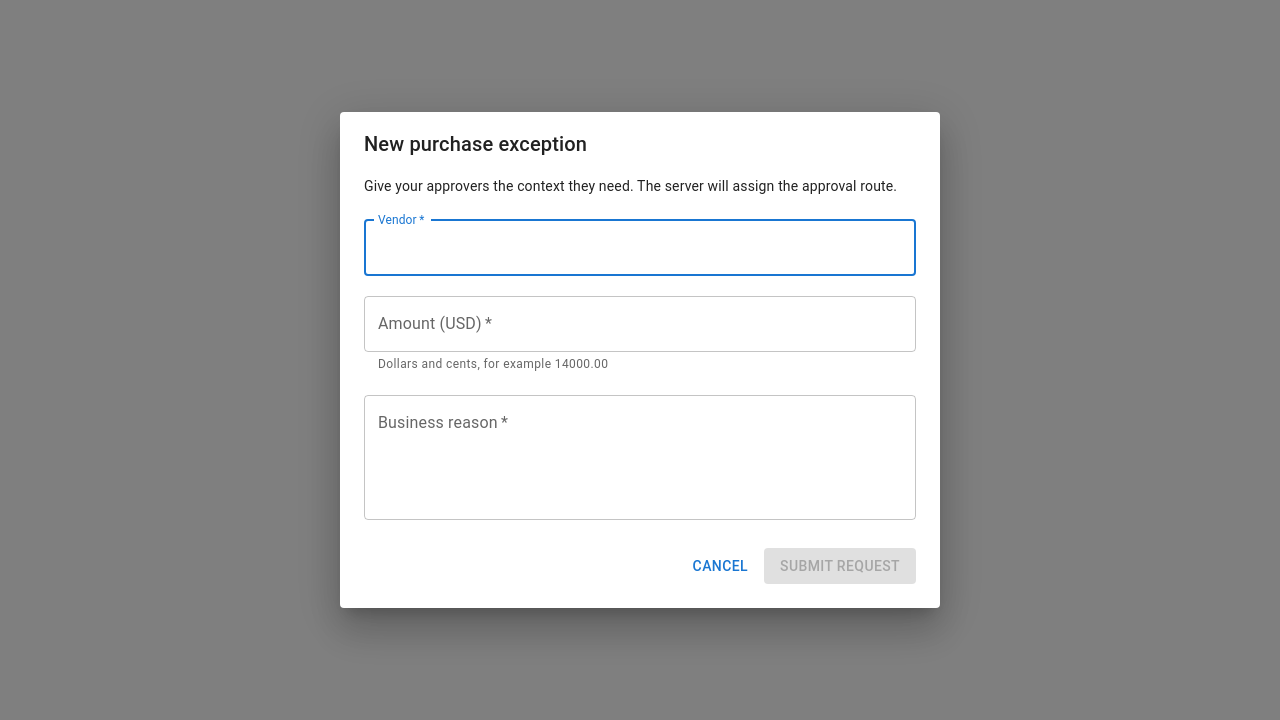
Test: purchase form › converts dollars to cents and retains fields when the API rejects submission
In the field labelled "Vendor": (640, 248) [364, 220, 916, 276], type "Demo Vendor"
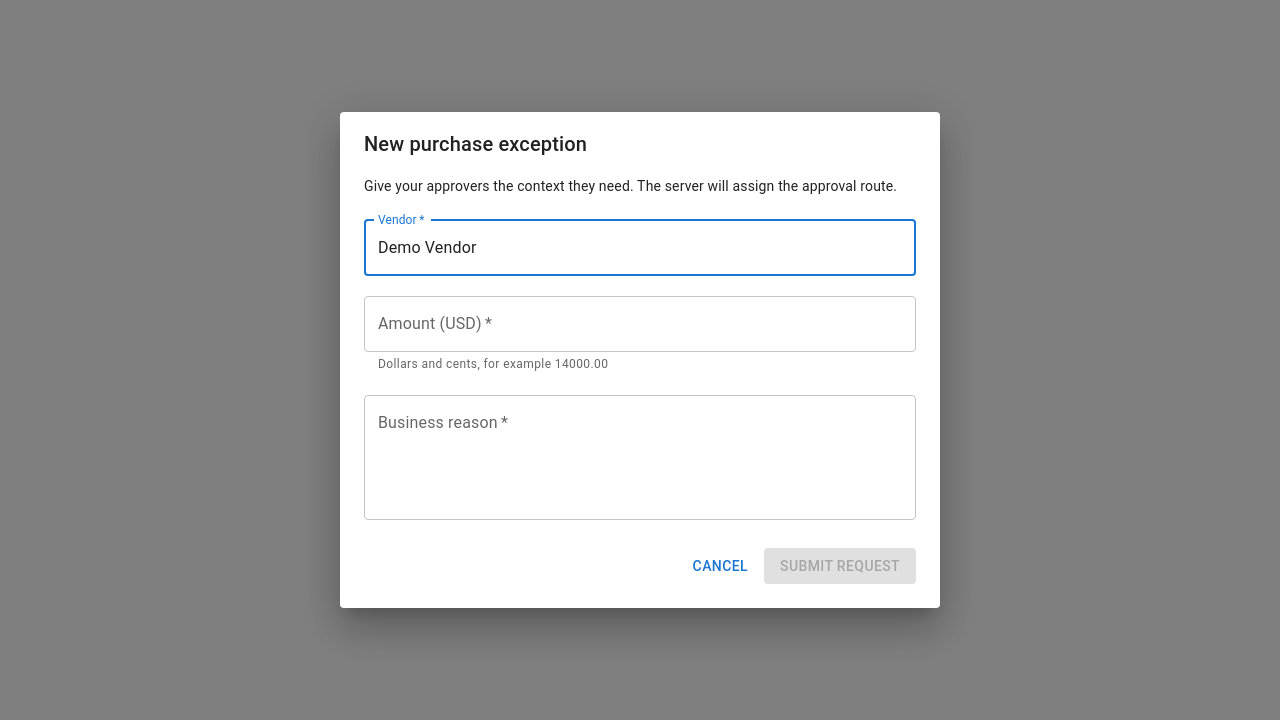
In the field labelled "Amount (USD)": (640, 324) [364, 296, 916, 352], type "1000.01"
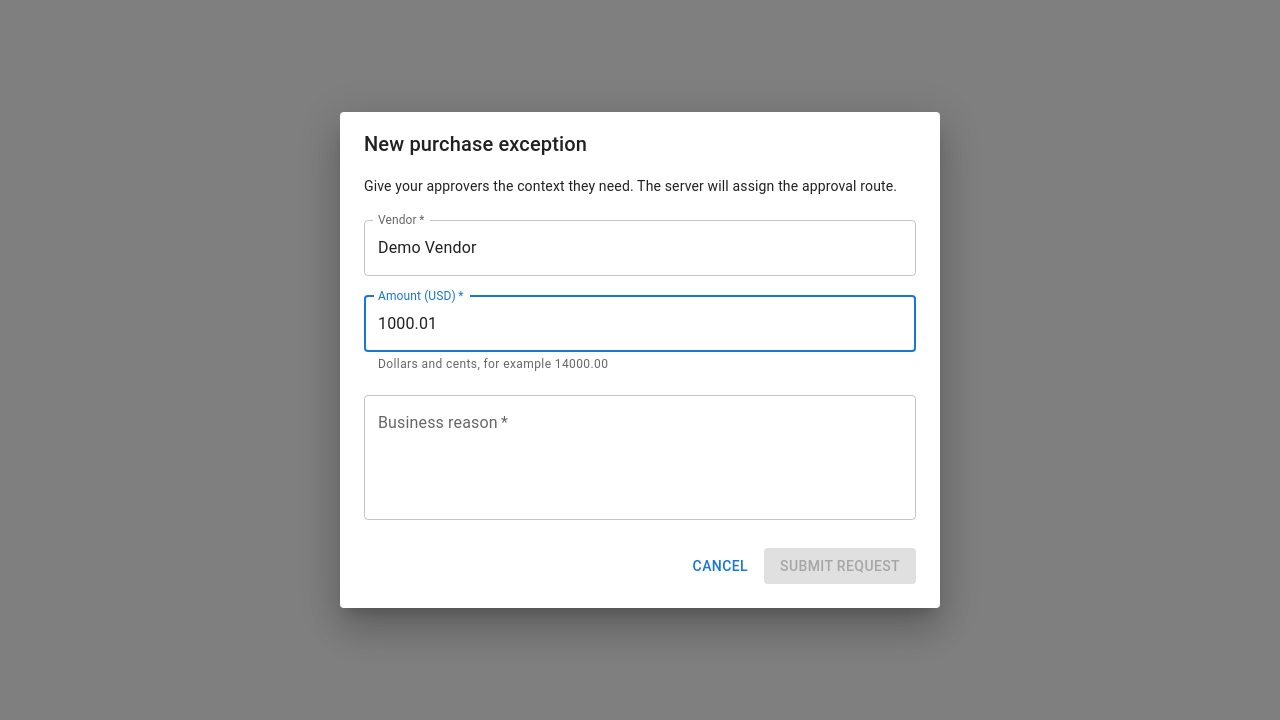
In the text box labelled "Business reason": (640, 457) [378, 411, 902, 503], type "Demo reason"
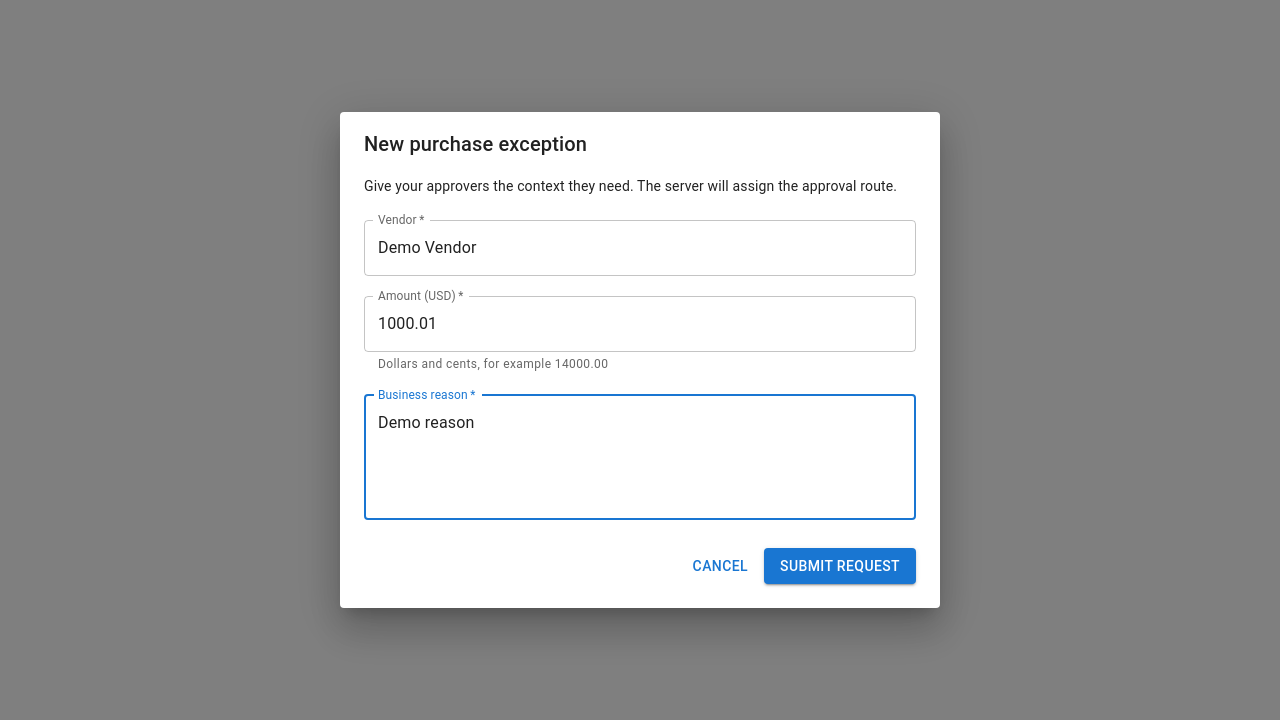
Click the button "Submit request": (840, 566) [764, 548, 916, 584]
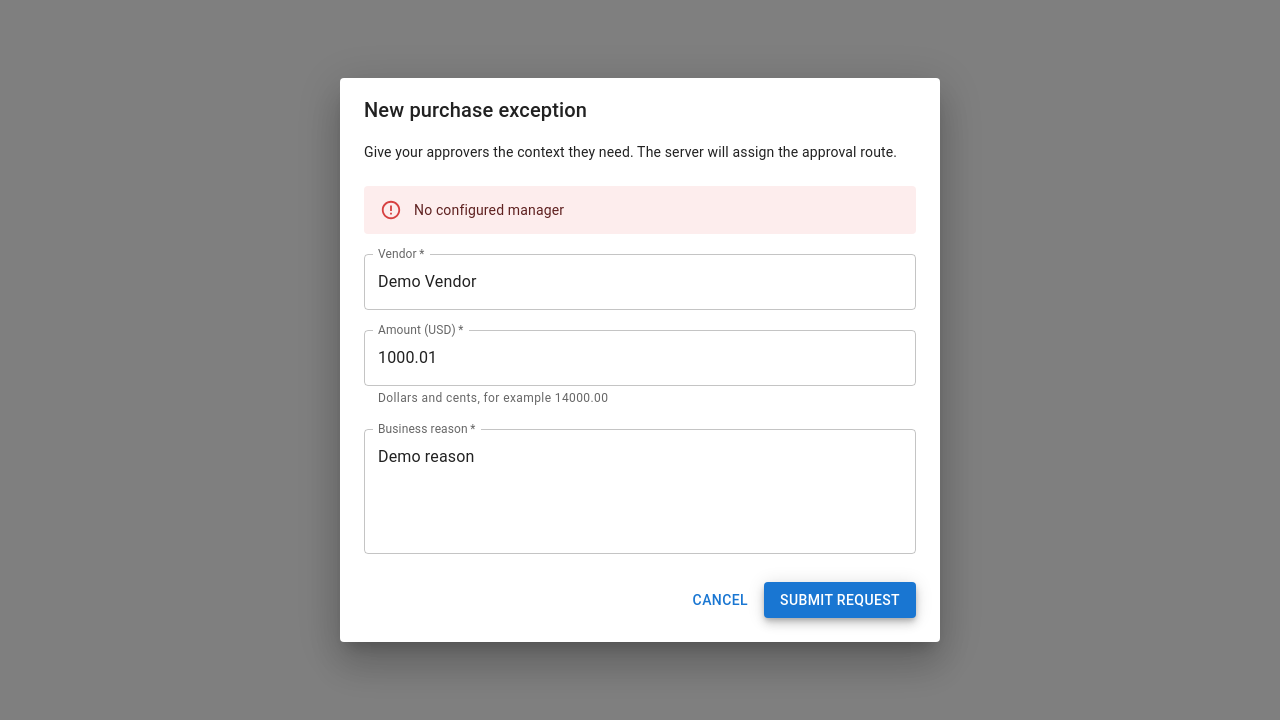
Result: the message reads "No configured manager" at [414, 202, 564, 218]
